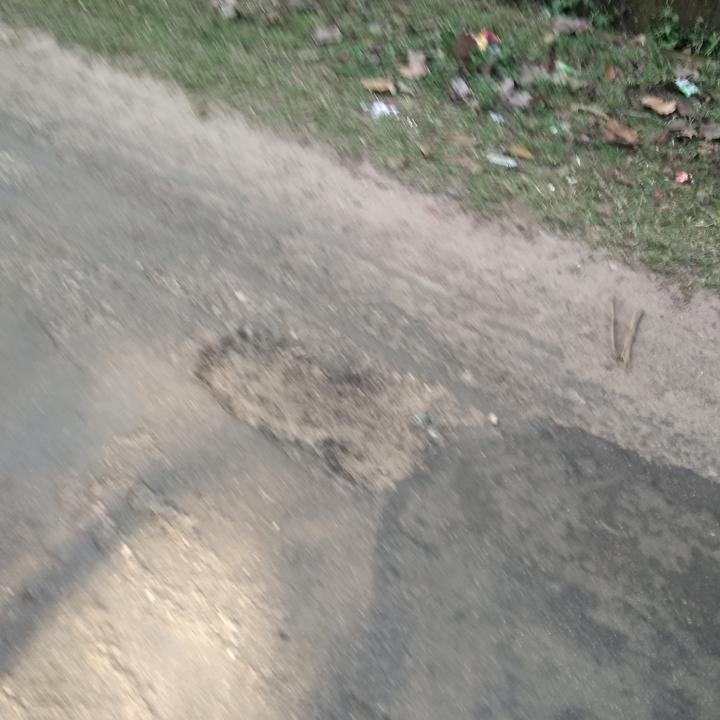pothole: (188, 324, 435, 490)
